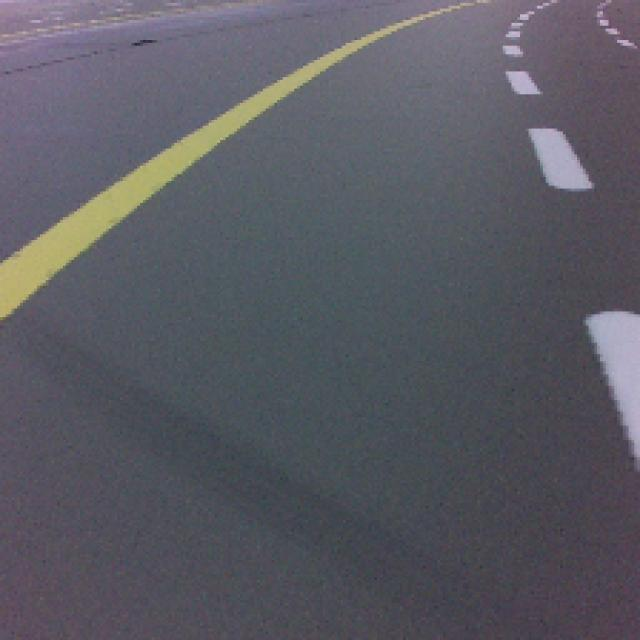Road: (0, 470, 640, 638)
